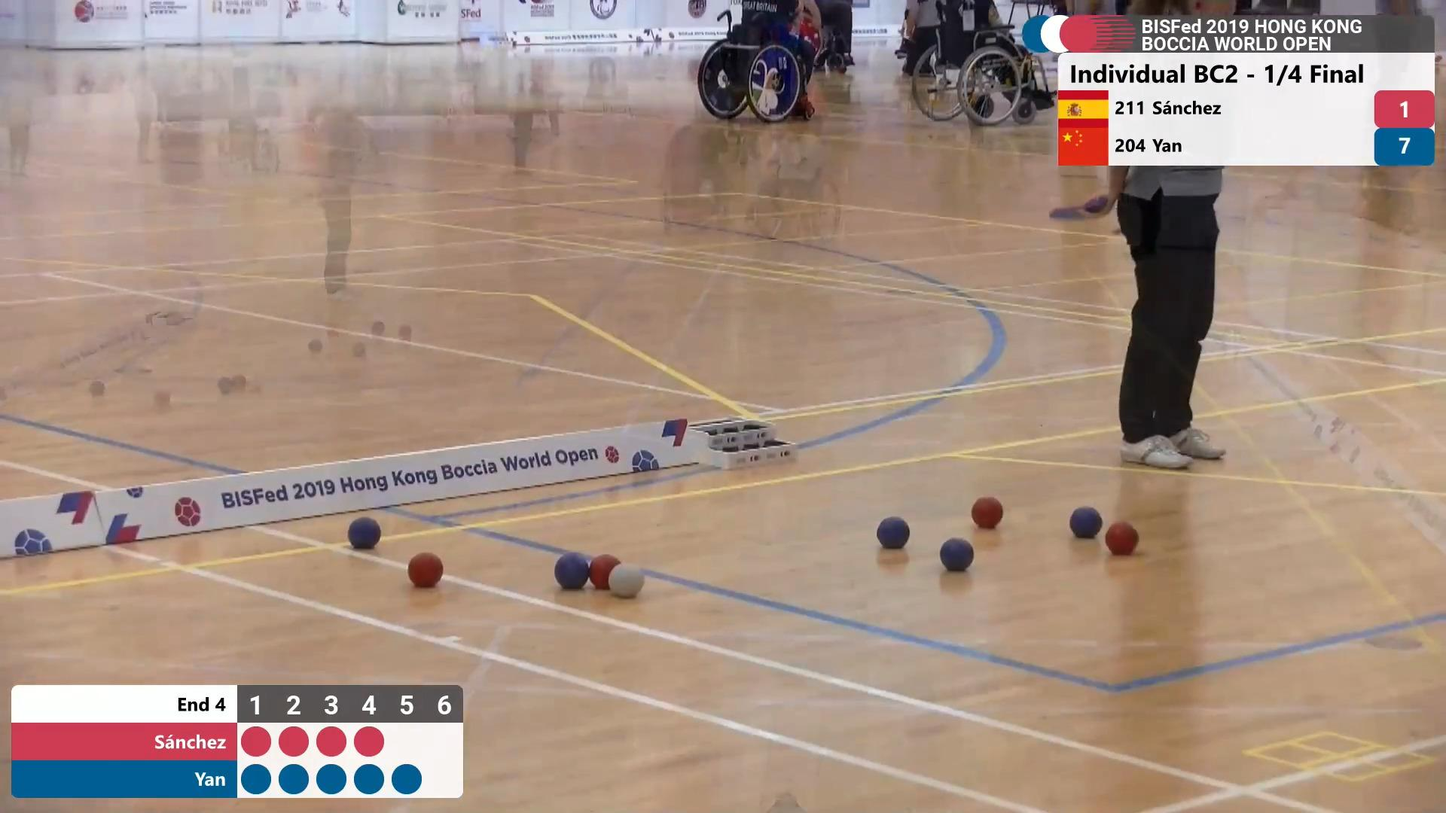blue_ball: (872, 512, 913, 554), (552, 551, 591, 594), (937, 535, 976, 575), (1067, 503, 1105, 543), (345, 515, 383, 552)
red_ball: (1101, 517, 1145, 560), (404, 550, 445, 591), (969, 494, 1006, 534), (585, 552, 623, 590)
white_ball: (605, 560, 648, 601)
